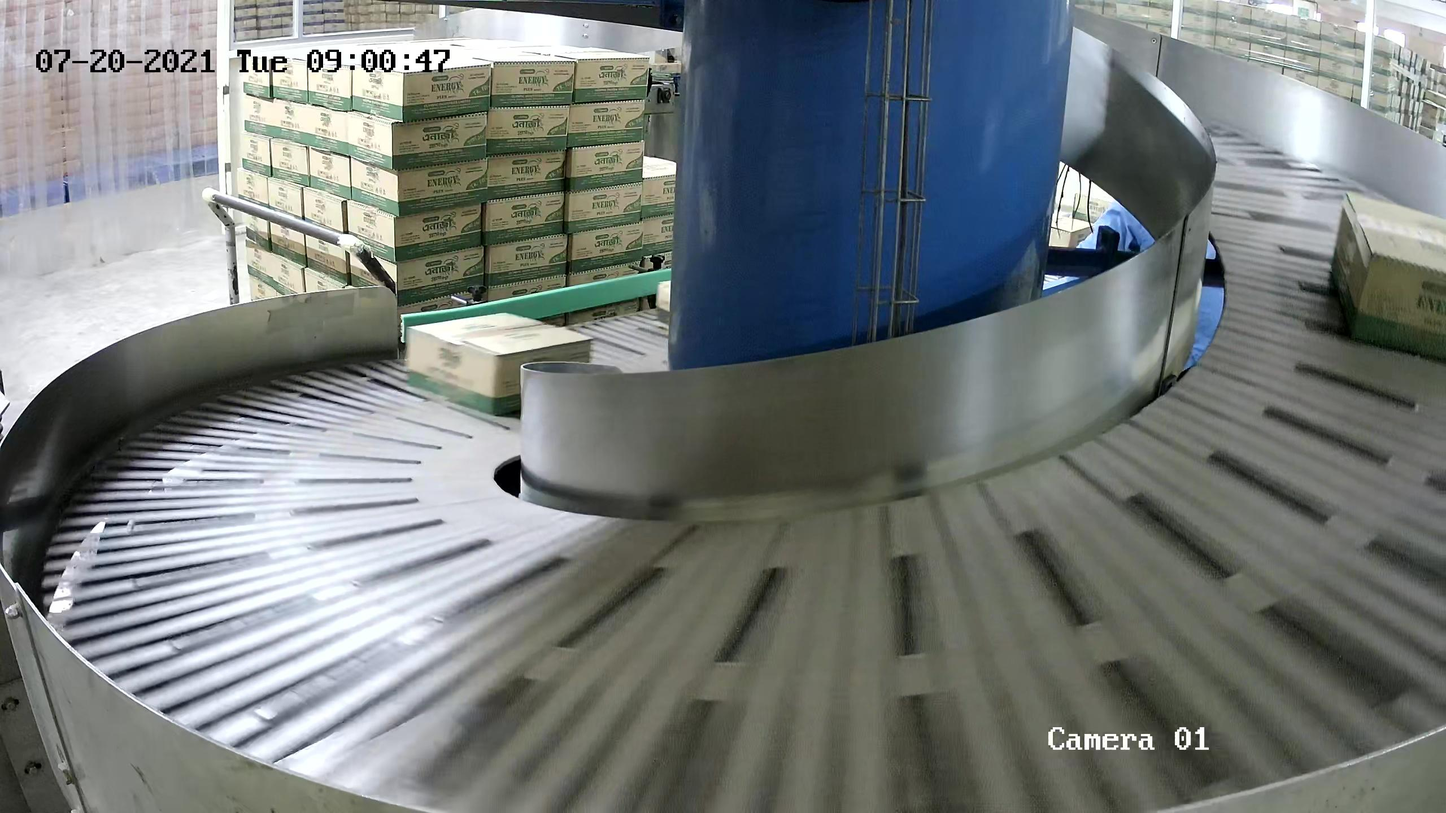Box: (1328, 189, 1446, 366), (405, 310, 593, 416)
